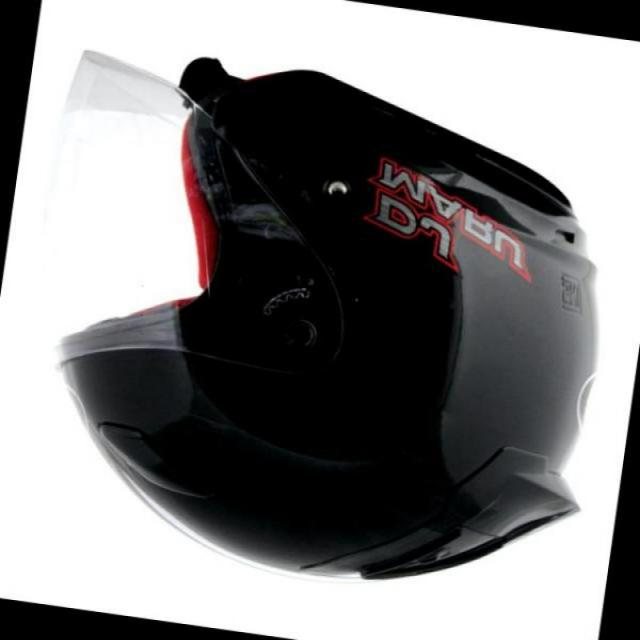Helmet: (56, 41, 600, 573)
